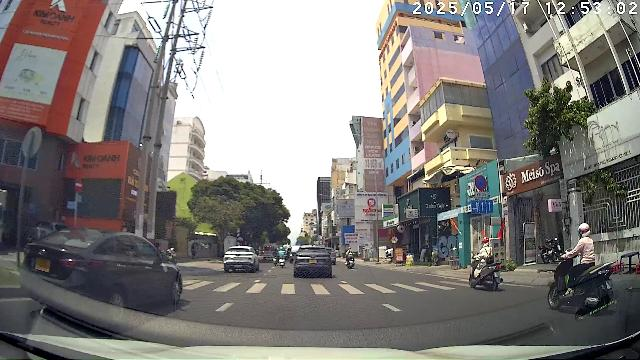131a-cam-do-xe: (474, 176, 488, 190)
